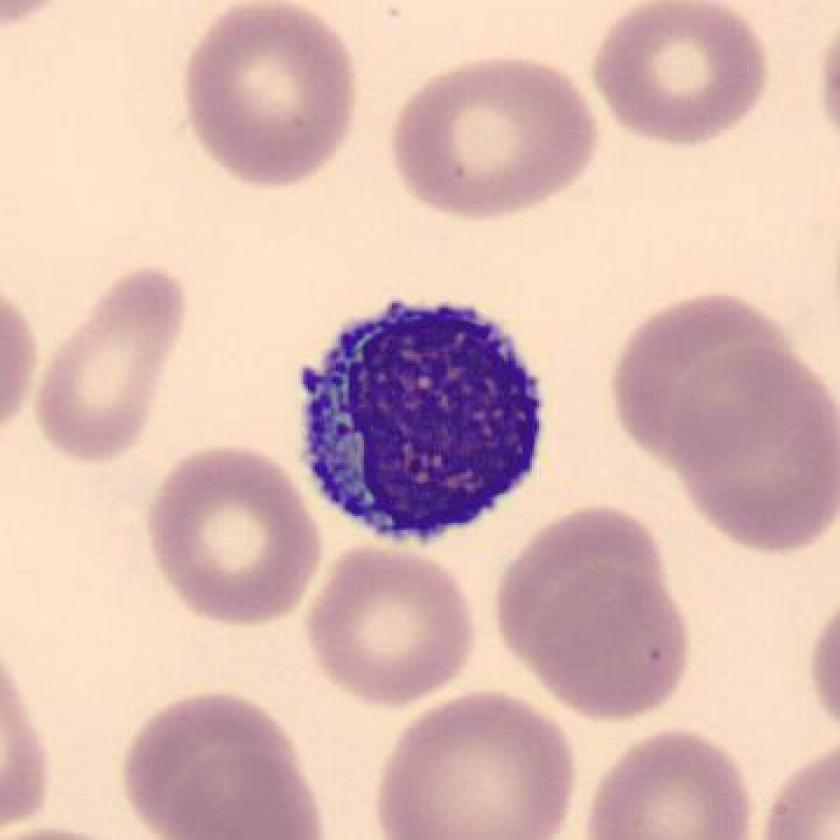lymphocyte: (281, 288, 561, 556)
